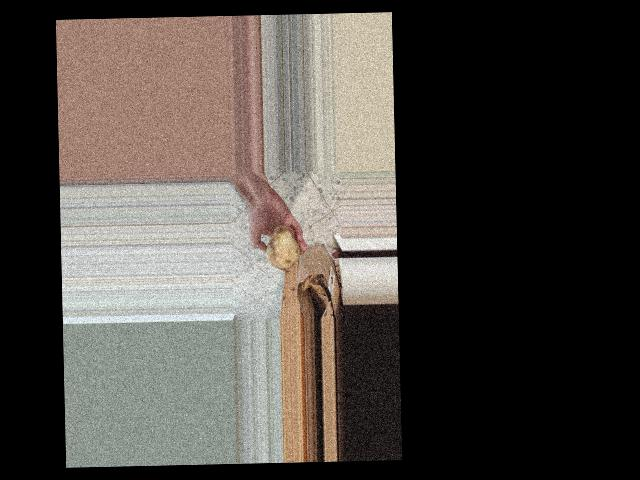onion: (263, 222, 303, 271)
